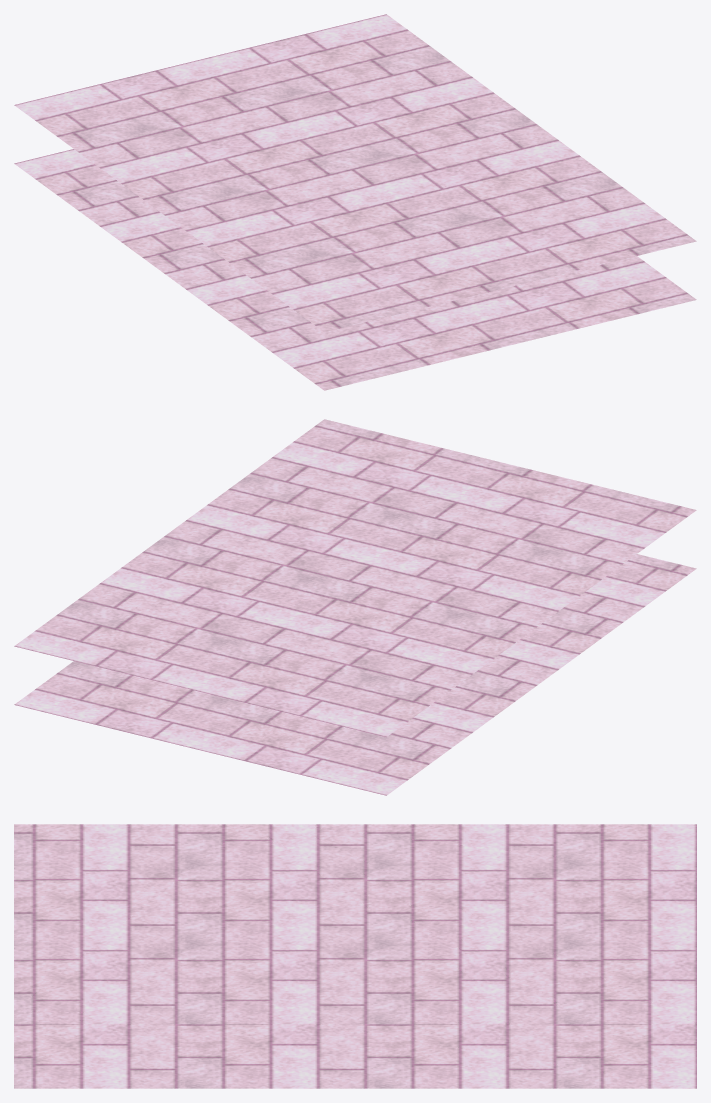
The model's file is citadel_stair_patch.glb.
3 views of the same model, one above another, from view 1: azimuth 30°, elevation 25°; view 2: azimuth 150°, elevation 25°; view 3: azimuth 270°, elevation 25° (orthographic). The views are drawn at different scales.
Parts seen in each view (by area): view 1: citadel_stair_patch; view 2: citadel_stair_patch; view 3: citadel_stair_patch.
Boxes of the visible parts, x1,y1,x2,y2 form: citadel_stair_patch: (14, 14, 696, 390); citadel_stair_patch: (14, 419, 696, 795); citadel_stair_patch: (14, 824, 696, 1088).
Size of the model in its own units: 10 by 1.5 by 14.43.
1 material, 1 textured.
